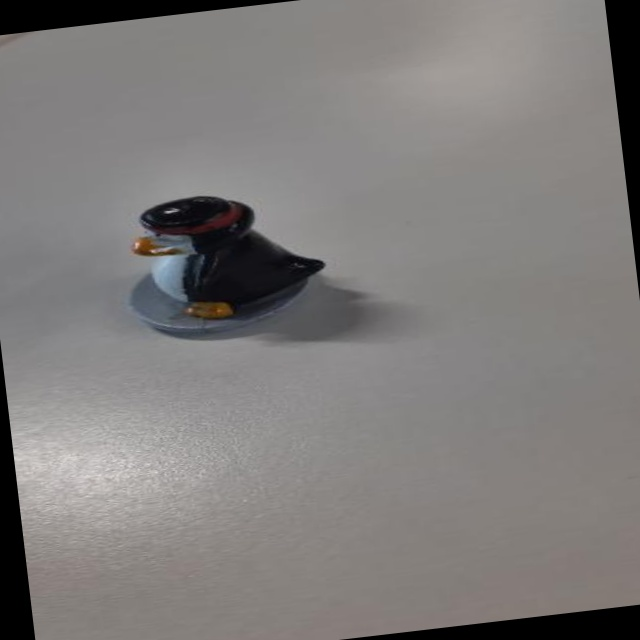Penguin: (99, 181, 342, 351)
